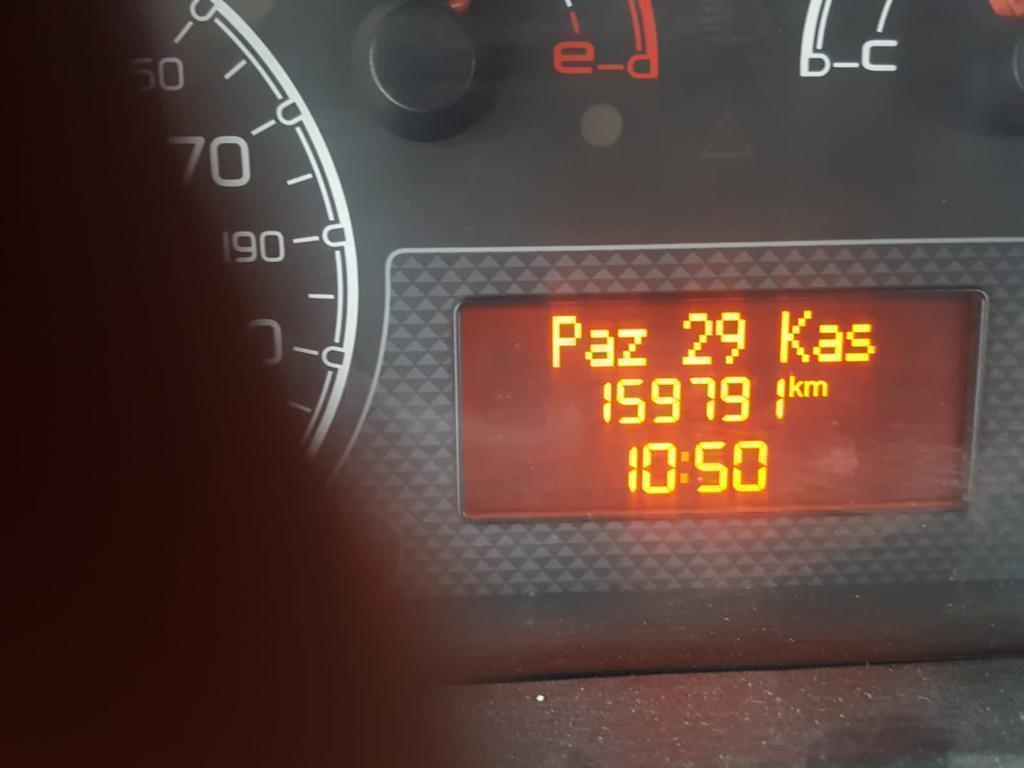0: (733, 437, 769, 493), (641, 440, 675, 495)
1: (772, 373, 786, 423), (626, 442, 639, 493), (601, 378, 613, 424)
2: (679, 309, 713, 368)
5: (692, 440, 729, 496), (616, 375, 647, 426)
7: (687, 374, 715, 421)
9: (716, 308, 749, 366), (719, 372, 752, 425), (650, 375, 682, 427)
X: (777, 306, 813, 364), (551, 311, 582, 369), (616, 324, 650, 368), (844, 320, 877, 364), (583, 326, 615, 369), (814, 321, 843, 366), (804, 378, 830, 398), (679, 447, 690, 487), (788, 372, 803, 400)
odometer: (453, 286, 999, 519)
